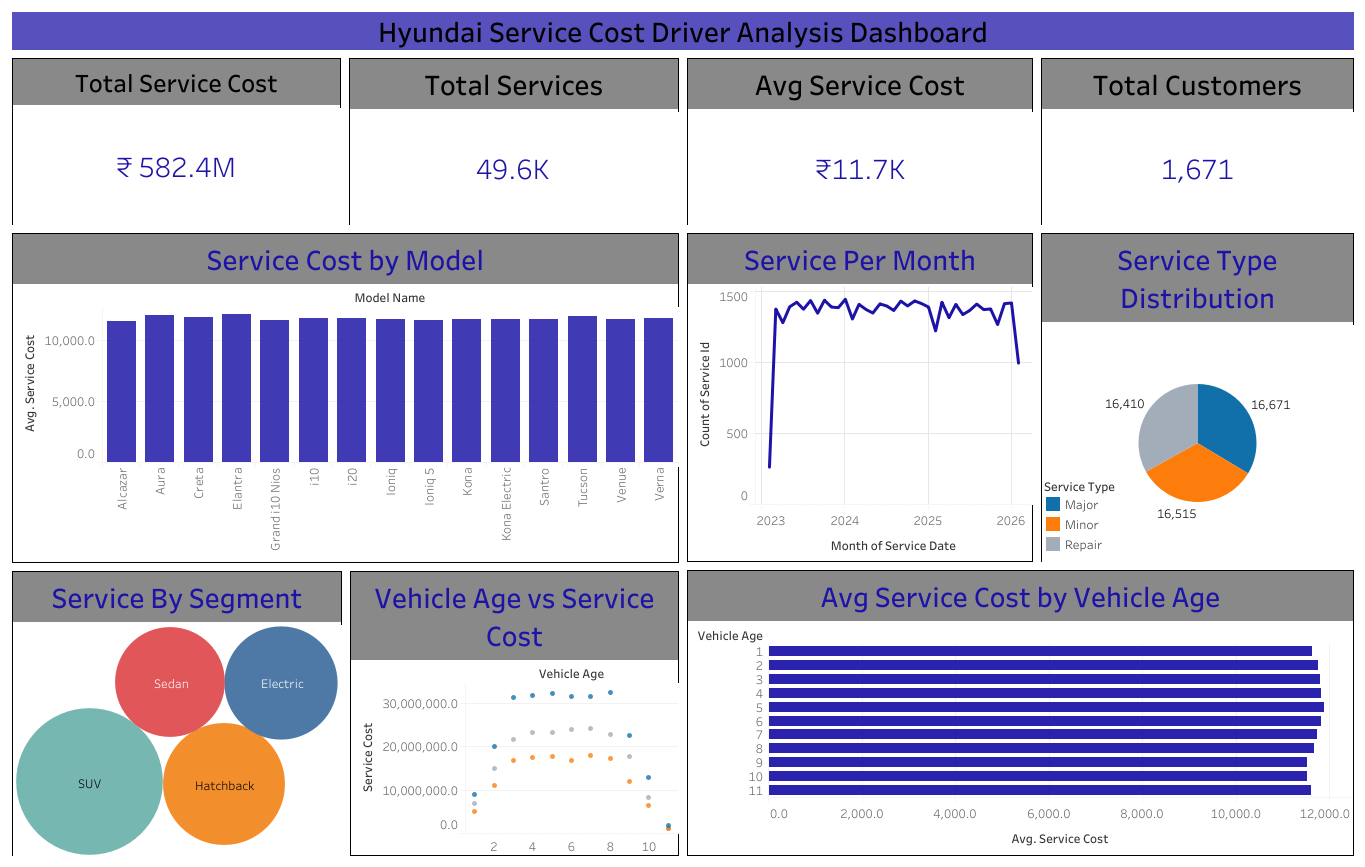

Layout of this report page (visuals, bound fields, positions):
{"tool":"tableau","page":{"name":"Dashboard 1","canvas":[1366,868],"ordinal":0},"visuals":[{"type":"title","box":[8,8,1350,45]},{"type":"worksheet","title":"A5","mark":"Automatic","box":[8,53,336.9,175]},{"type":"worksheet","title":"A6","mark":"Automatic","box":[344.9,53,338.1,175]},{"type":"worksheet","title":"A7","mark":"Automatic","box":[683,53,353.9,175]},{"type":"worksheet","title":"A8","mark":"Automatic","box":[1036.9,53,321.1,175]},{"type":"worksheet","title":"A2","mark":"Automatic","rows":["service_cost"],"cols":["model_name"],"box":[8,228,675,338.5]},{"type":"worksheet","title":"A4","mark":"Automatic","rows":["service_id"],"cols":["service_date"],"box":[683,228,354,338]},{"type":"worksheet","title":"A3","mark":"Pie","box":[1037,228,321,338]},{"type":"legend","title":"A3","param":"[federated.1ysxgyv1uzuubz1h2je3s01kdk62].[none:service_type:nk]","box":[1043,475,140,85]},{"type":"worksheet","title":"A1","mark":"Automatic","rows":["vehicle_age"],"cols":["service_cost"],"box":[683,566,675,294]},{"type":"worksheet","title":"B2","mark":"Circle","box":[8,566.5,337.5,293.5]},{"type":"worksheet","title":"B1","mark":"Circle","rows":["service_cost"],"cols":["vehicle_age"],"box":[345.5,566.5,337.5,293.5]}]}

Visuals, with their boxes in screenshot pixels (x1, y1, x2, y2), scaled from the page's 1366x868 canvas onto the 1365x867 screenshot:
title: (left=8, top=8, right=1357, bottom=53)
"A5" worksheet: (left=8, top=53, right=345, bottom=228)
"A6" worksheet: (left=345, top=53, right=682, bottom=228)
"A7" worksheet: (left=682, top=53, right=1036, bottom=228)
"A8" worksheet: (left=1036, top=53, right=1357, bottom=228)
"A2" worksheet: (left=8, top=228, right=682, bottom=566)
"A4" worksheet: (left=682, top=228, right=1036, bottom=565)
"A3" worksheet (Pie marks): (left=1036, top=228, right=1357, bottom=565)
"A3" legend: (left=1042, top=474, right=1182, bottom=559)
"A1" worksheet: (left=682, top=565, right=1357, bottom=859)
"B2" worksheet (Circle marks): (left=8, top=566, right=345, bottom=859)
"B1" worksheet (Circle marks): (left=345, top=566, right=682, bottom=859)
